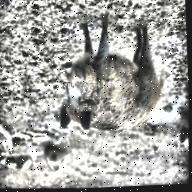boar: (41, 16, 189, 150)
